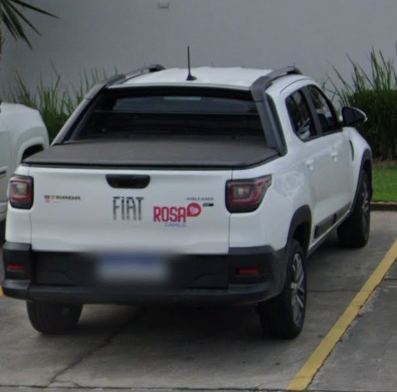car: (4, 65, 375, 346)
